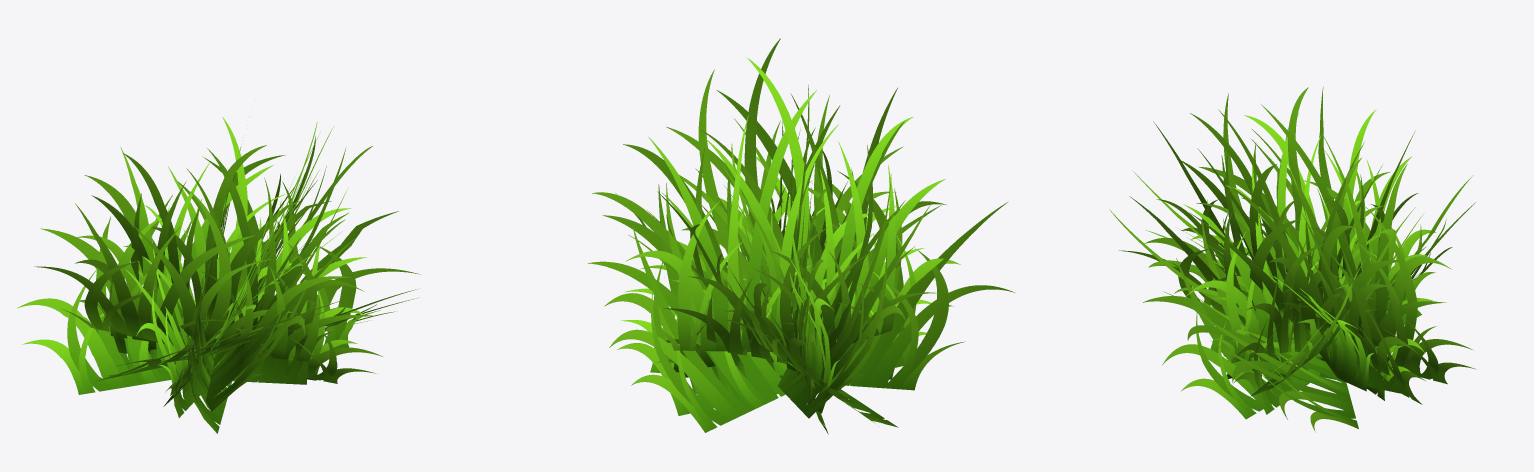
Rendered from Grass2.fbx.
3 renders of one model, left to right at view 1: azimuth 30°, elevation 25°; view 2: azimuth 150°, elevation 25°; view 3: azimuth 270°, elevation 25°, orthographic. The views are drawn at different scales.
Visible parts, largest first — view 1: Tree_1; view 2: Tree_1; view 3: Tree_1.
Boxes of the visible parts, x1,y1,x2,y2 form: Tree_1: [17, 117, 420, 433]; Tree_1: [588, 38, 1014, 434]; Tree_1: [1109, 87, 1475, 432].
Size of what is drawn, in the model's own units: 30.37 by 23.27 by 28.35.
Materials: 1 (1 with a texture image).
